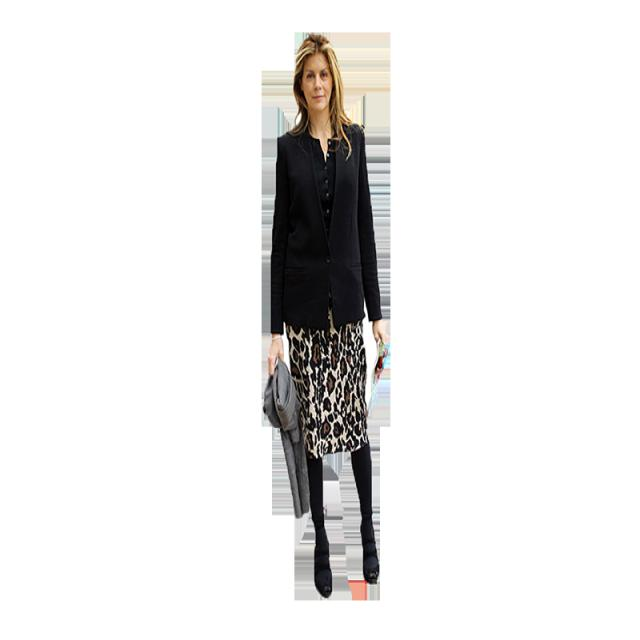jovem: (252, 23, 398, 608)
